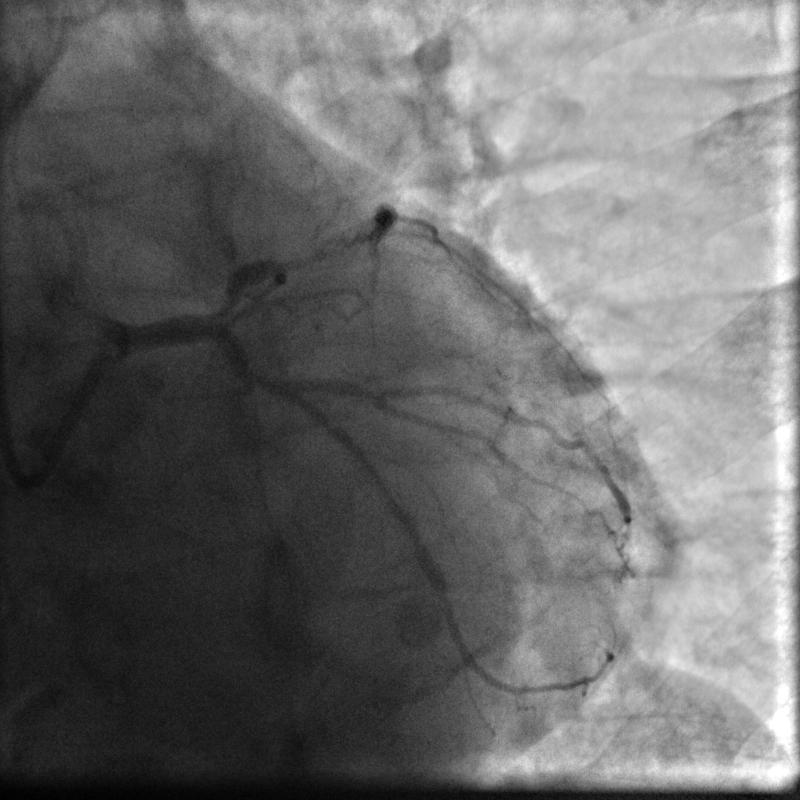Stenosis: (200, 277, 252, 324)
